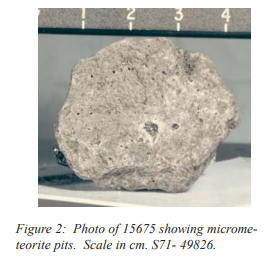Basalt: (52, 38, 239, 194)
